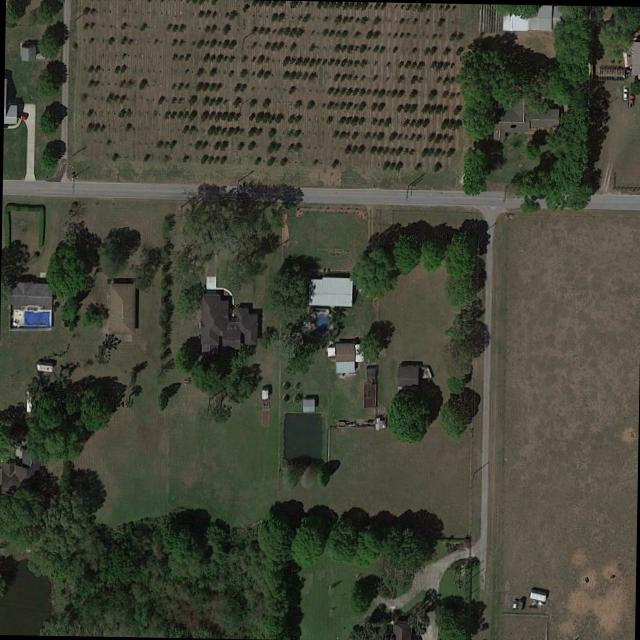small-vehicle: (621, 85, 629, 99), (17, 111, 26, 119), (628, 93, 633, 105)
